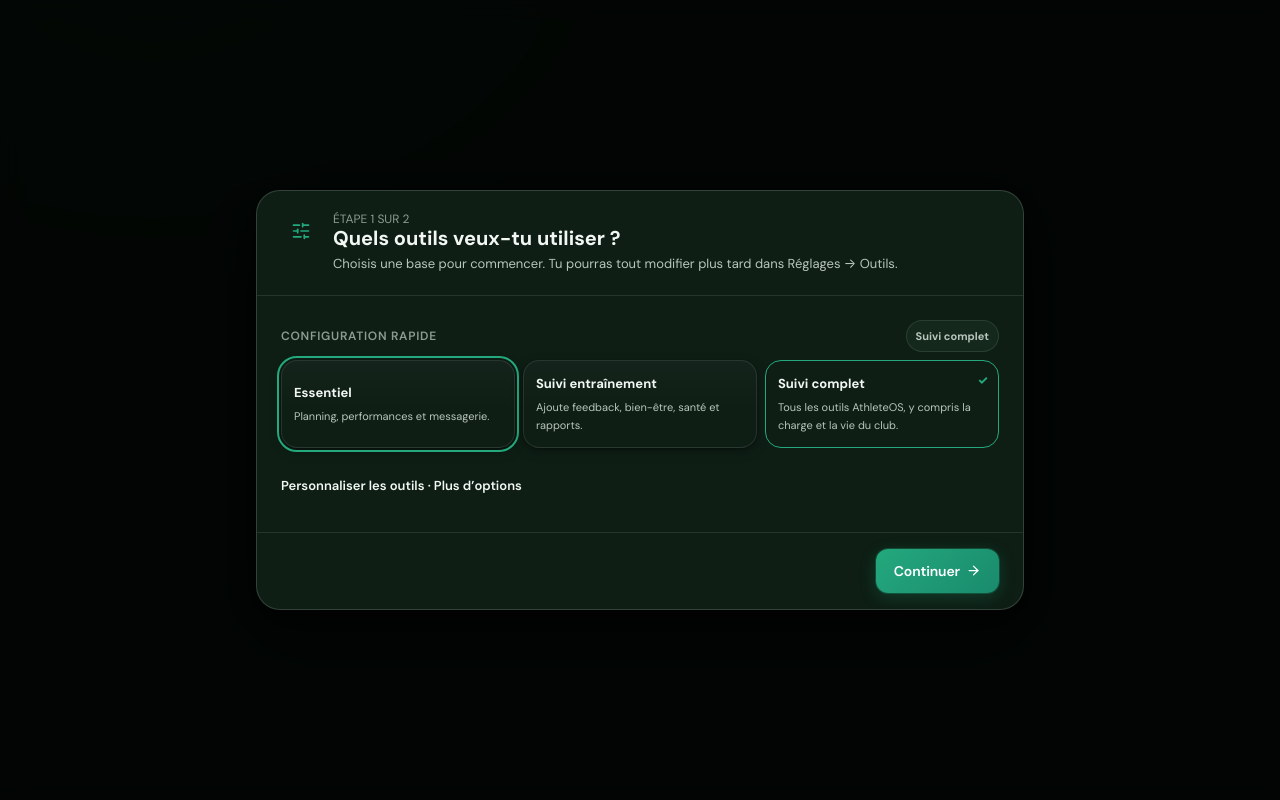
premiers outils du club › garde visible l’échec du suivi individuel même si le club a été enregistré
Step 1. Click the button "Continuer" → (937, 571), box left=876, top=549, right=999, bottom=593
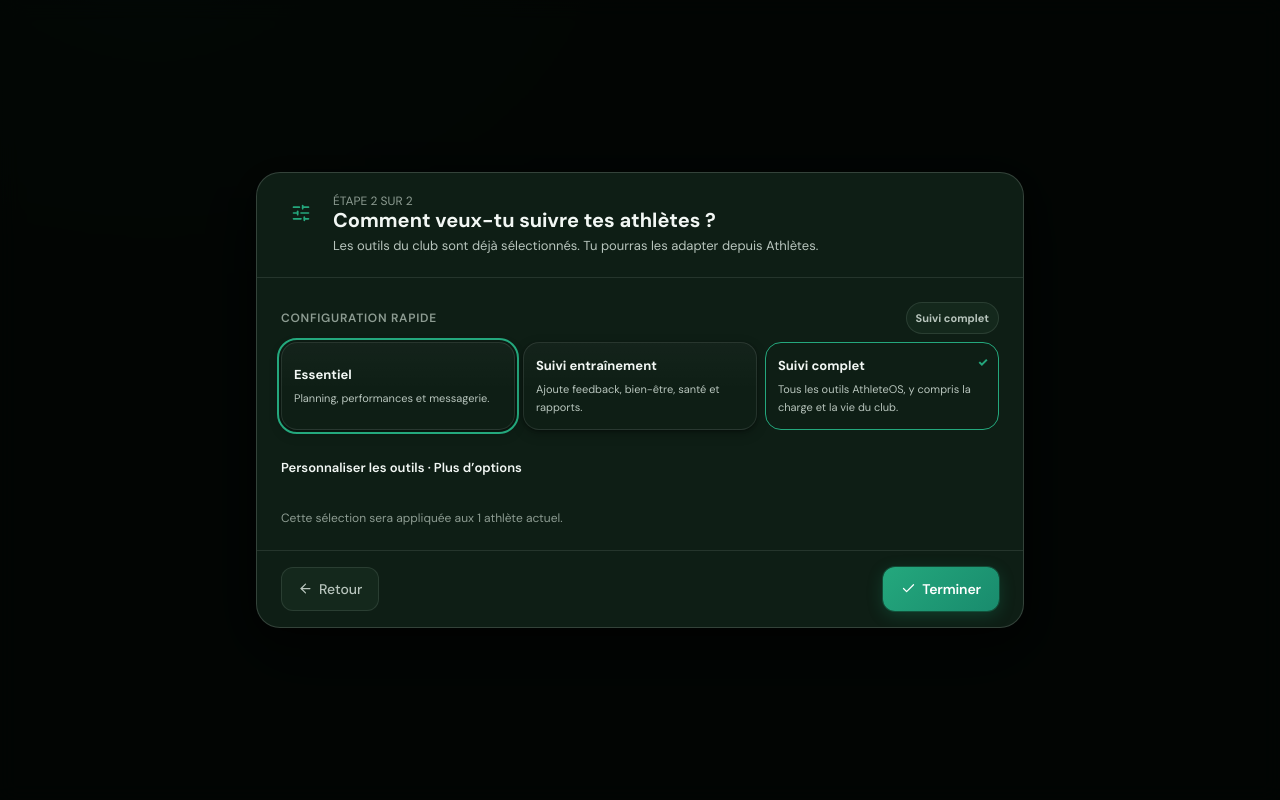
Step 2. Click the button "Terminer" → (941, 589), box left=883, top=567, right=999, bottom=611
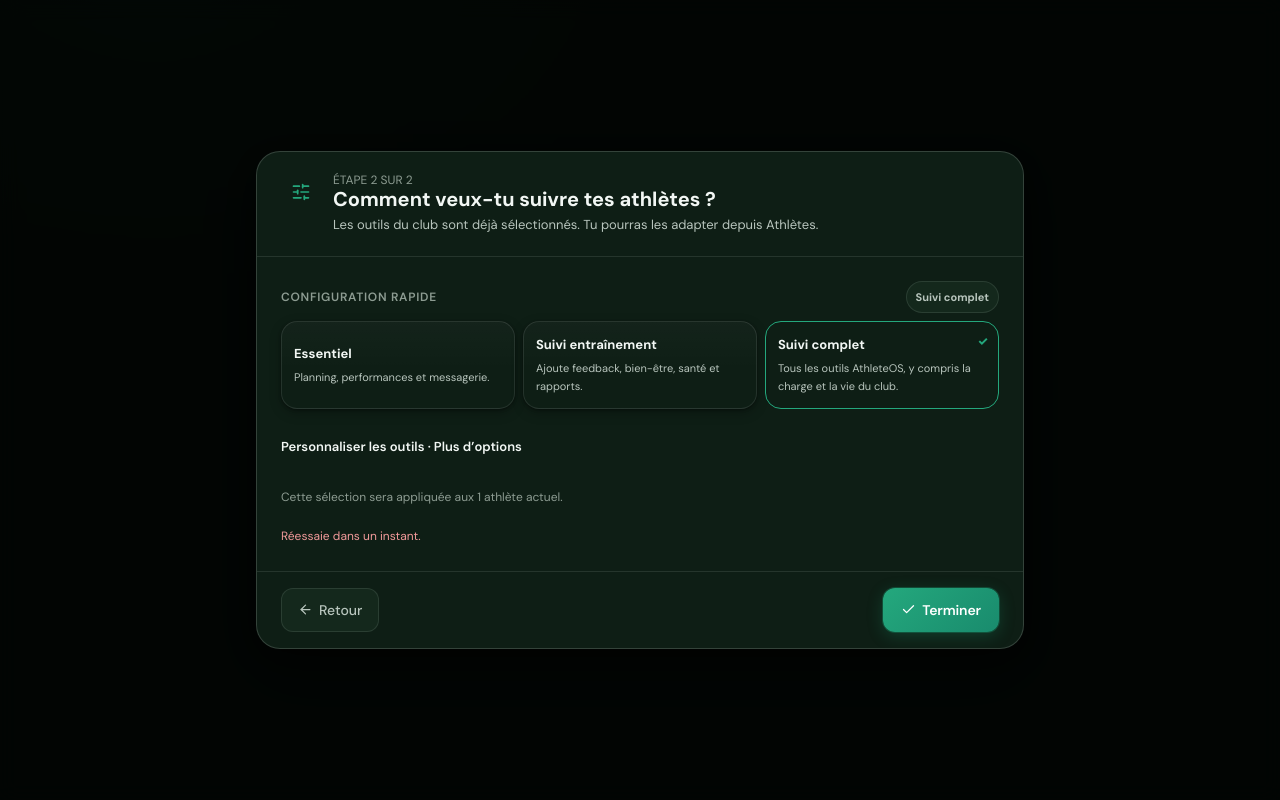
Expected: the button "Terminer" is enabled, left=883, top=588, right=999, bottom=632
Expected: the message reads "Réessaie dans un instant.", left=281, top=528, right=421, bottom=544
